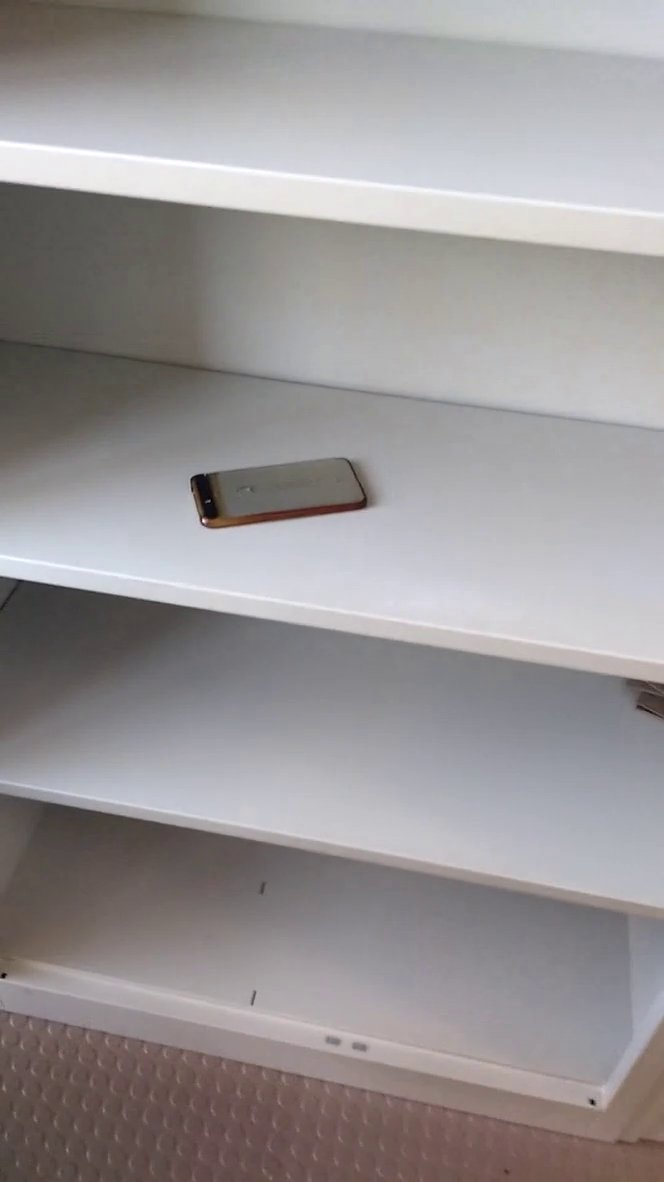phone: (181, 441, 375, 540)
